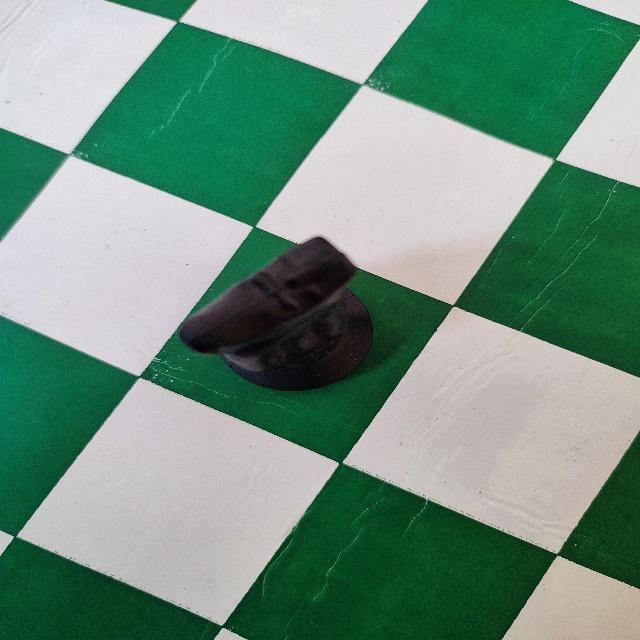Knight: (177, 230, 377, 395)
